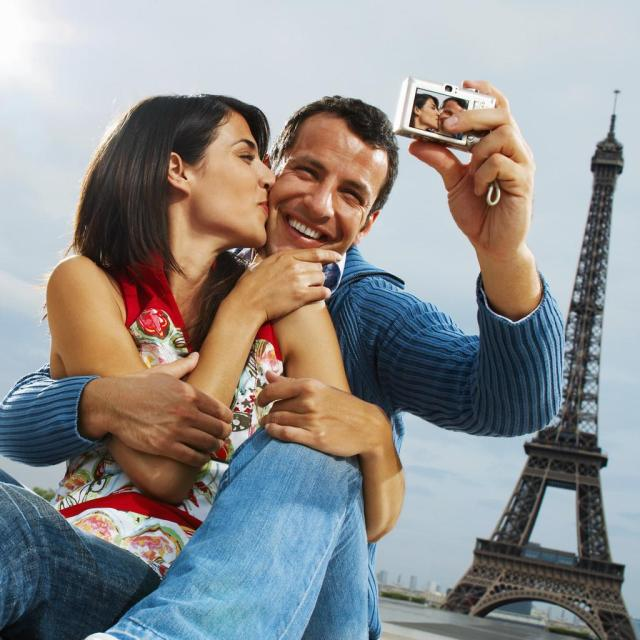Face: (276, 97, 383, 268), (191, 120, 278, 251)
